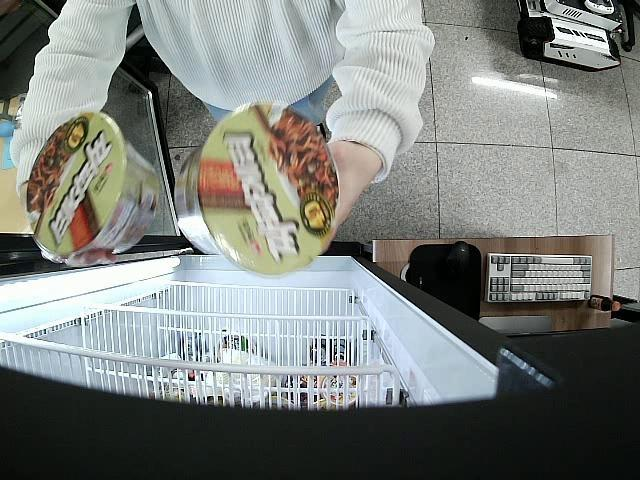03_chapagetti_L: (172, 99, 338, 274), (26, 110, 162, 261)
